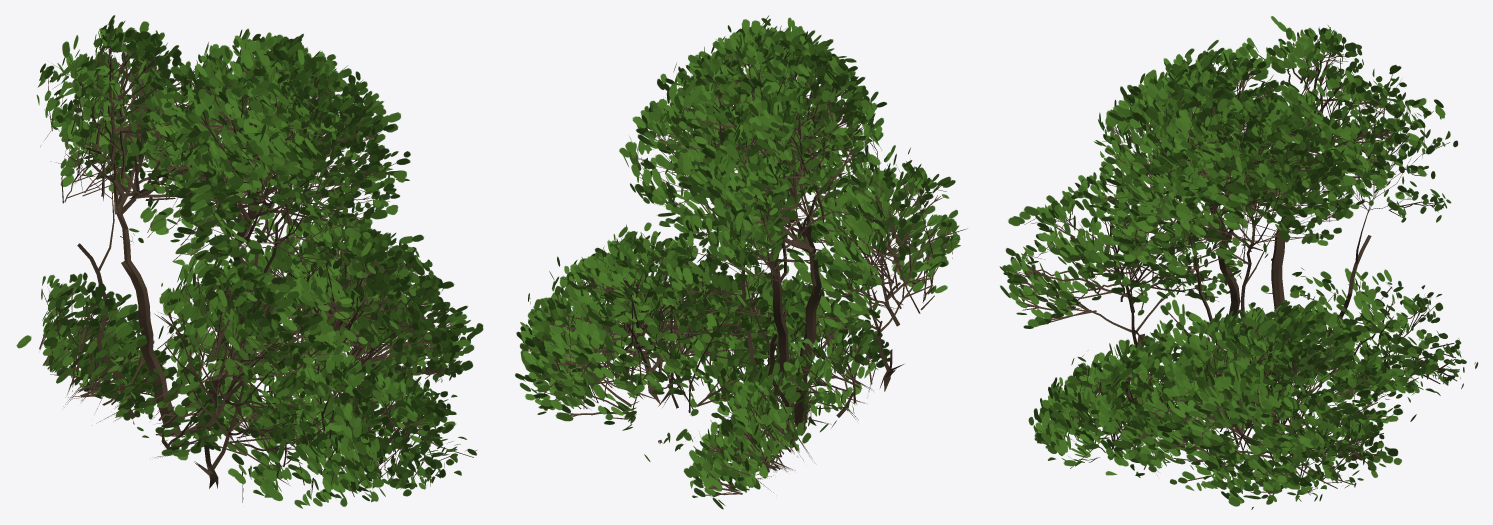
3 views of the same model, side by side, from view 1: azimuth 30°, elevation 25°; view 2: azimuth 150°, elevation 25°; view 3: azimuth 270°, elevation 25° (orthographic). The views are drawn at different scales.
Visible parts, largest first — view 1: oak 01.001_trunk_Mat.001_0.503; view 2: oak 01.001_trunk_Mat.001_0.503; view 3: oak 01.001_trunk_Mat.001_0.503.
Boxes of the visible parts, box(x1,y1,x2,y2) form: oak 01.001_trunk_Mat.001_0.503: box(16, 15, 483, 508); oak 01.001_trunk_Mat.001_0.503: box(515, 15, 967, 509); oak 01.001_trunk_Mat.001_0.503: box(999, 16, 1478, 509).
Bounding box in the file's own units: 3.51 × 4.07 × 4.61.
2 materials, 1 textured.
